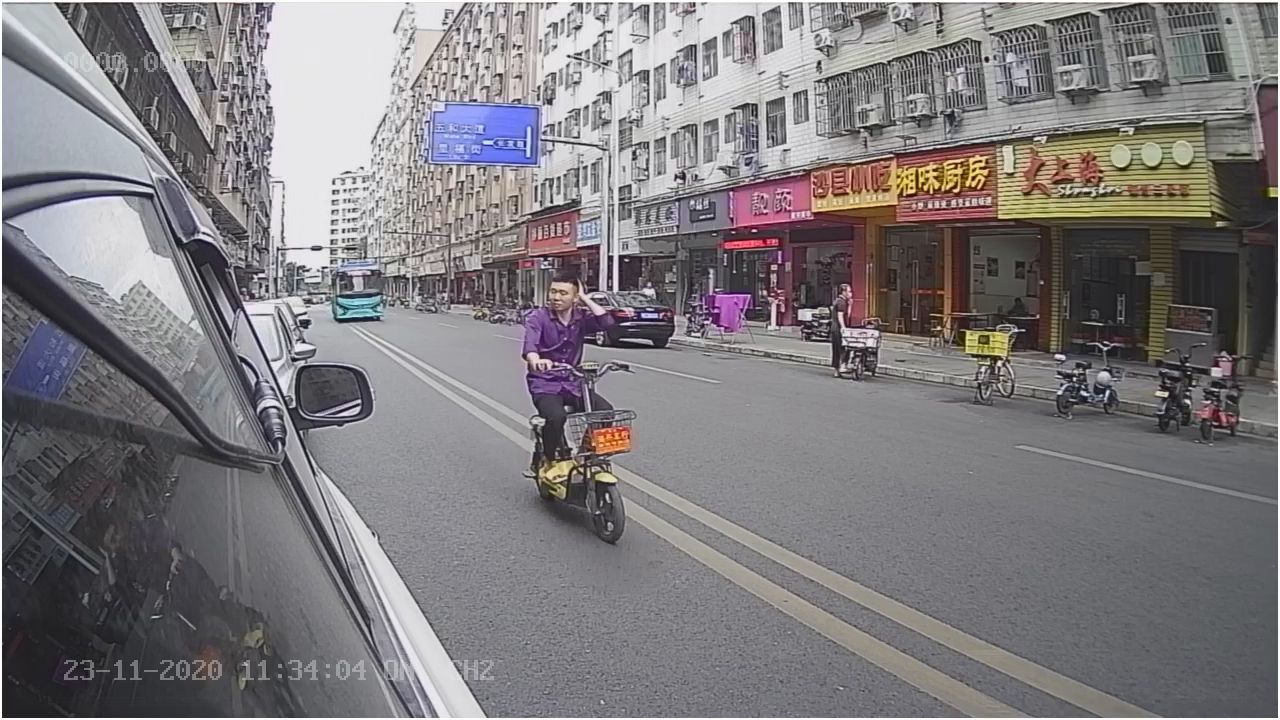person: (523, 270, 614, 366)
